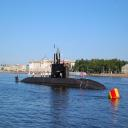submarine: (15, 64, 108, 91)
